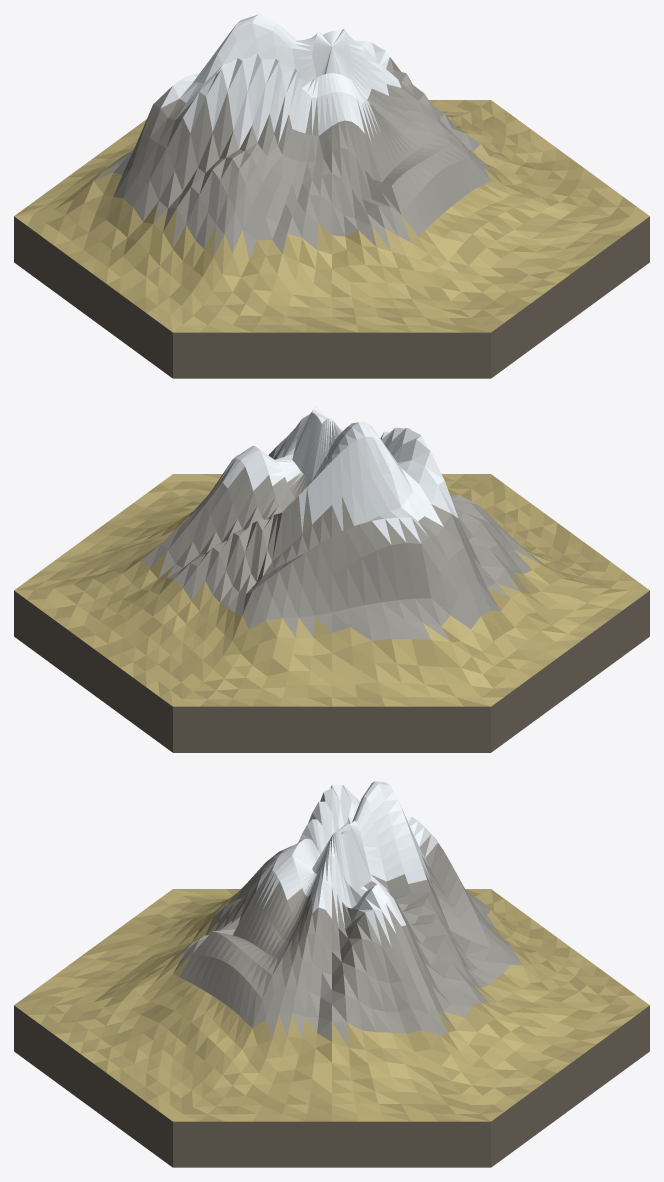
File: TERRAIN_PLAINS_MOUNTAIN_v02.fbx
3 views of the same model, one above another, from view 1: azimuth 30°, elevation 25°; view 2: azimuth 150°, elevation 25°; view 3: azimuth 270°, elevation 25° (orthographic).
Parts seen in each view (by area): view 1: TERRAIN_PLAINS_MOUNTAIN_v02; view 2: TERRAIN_PLAINS_MOUNTAIN_v02; view 3: TERRAIN_PLAINS_MOUNTAIN_v02.
Boxes of the visible parts, left/top/right/bottom form: TERRAIN_PLAINS_MOUNTAIN_v02: left=14, top=14, right=649, bottom=378; TERRAIN_PLAINS_MOUNTAIN_v02: left=14, top=407, right=649, bottom=752; TERRAIN_PLAINS_MOUNTAIN_v02: left=14, top=781, right=649, bottom=1167.
Size of the model in its own units: 173 by 84.52 by 200.
